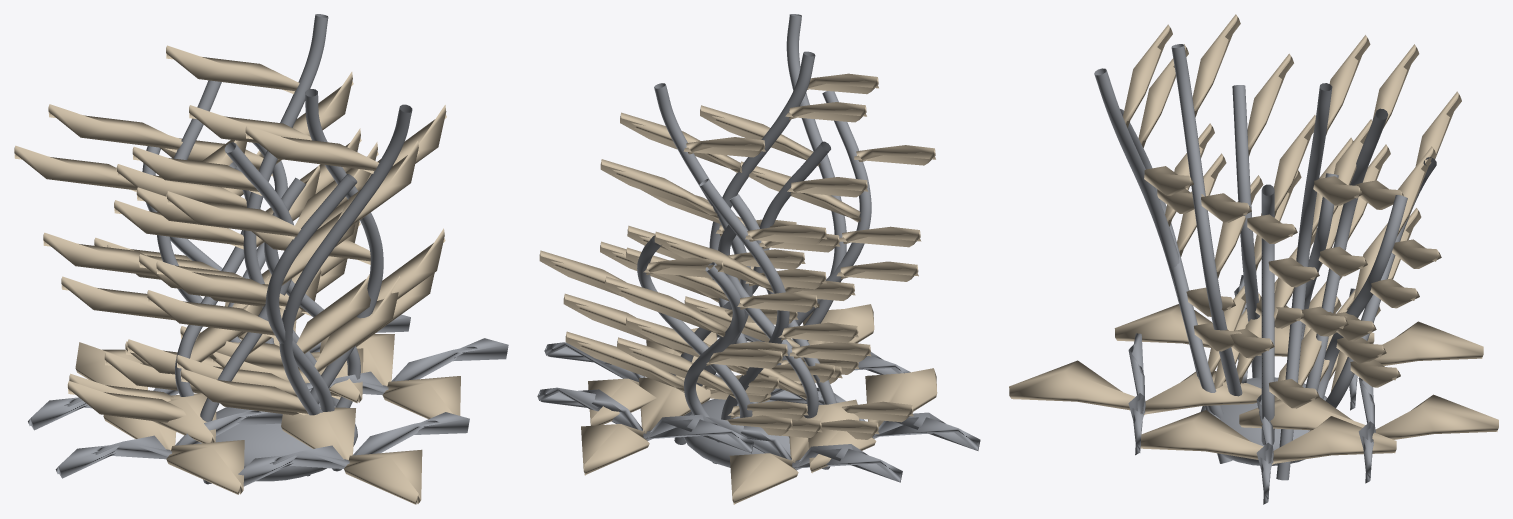
Rendered from bio_aquatic_frond_20_near.glb.
The picture shows the model from 3 angles, left to right: view 1: azimuth 30°, elevation 25°; view 2: azimuth 150°, elevation 25°; view 3: azimuth 270°, elevation 25°; orthographic projection. The views are drawn at different scales.
Visible parts, largest first — view 1: Ruffled aquatic blade.010, Ruffled aquatic blade.035, Ruffled aquatic blade.040, Ruffled aquatic blade.020, Ruffled aquatic blade.025, Ruffled aquatic blade.045, Ruffled aquatic blade.005, Low buttress leaf.009, Flexible stipe.002, Low buttress leaf.017, Low buttress leaf.001, Low buttress leaf.008 (+18 smaller); view 2: Ruffled aquatic blade.030, Ruffled aquatic blade.005, Ruffled aquatic blade.015, Ruffled aquatic blade.040, Ruffled aquatic blade.020, Ruffled aquatic blade.045, Ruffled aquatic blade.010, Ruffled aquatic blade.025, Low buttress leaf.013, Ruffled aquatic blade.035, Low buttress leaf.012, Low buttress leaf.005 (+19 smaller); view 3: Low buttress leaf.001, Low buttress leaf.009, Low buttress leaf.013, Ruffled aquatic blade.025, Ruffled aquatic blade.010, Flexible stipe.005, Ruffled aquatic blade.040, Ruffled aquatic blade.035, Ruffled aquatic blade, Flexible stipe.008, Ruffled aquatic blade.005, Ruffled aquatic blade.030 (+17 smaller).
Part boxes in pixels (left/top/right/bottom): Ruffled aquatic blade.010: left=156, top=125, right=419, bottom=415; Ruffled aquatic blade.035: left=147, top=191, right=400, bottom=415; Ruffled aquatic blade.040: left=114, top=45, right=360, bottom=368; Ruffled aquatic blade.020: left=67, top=142, right=378, bottom=422; Ruffled aquatic blade.025: left=176, top=105, right=446, bottom=396; Ruffled aquatic blade.045: left=61, top=164, right=320, bottom=401; Ruffled aquatic blade.005: left=43, top=104, right=271, bottom=374; Low buttress leaf.009: left=281, top=407, right=422, bottom=504; Flexible stipe.002: left=279, top=104, right=412, bottom=471; Low buttress leaf.017: left=103, top=415, right=244, bottom=494; Low buttress leaf.001: left=320, top=334, right=460, bottom=419; Low buttress leaf.008: left=238, top=412, right=469, bottom=486; Ruffled aquatic blade.030: left=565, top=276, right=817, bottom=435; Ruffled aquatic blade.005: left=626, top=224, right=858, bottom=420; Ruffled aquatic blade.015: left=539, top=250, right=822, bottom=437; Ruffled aquatic blade.040: left=600, top=137, right=826, bottom=394; Ruffled aquatic blade.020: left=641, top=177, right=913, bottom=422; Ruffled aquatic blade.045: left=626, top=247, right=879, bottom=439; Ruffled aquatic blade.010: left=700, top=73, right=921, bottom=374; Ruffled aquatic blade.025: left=600, top=102, right=866, bottom=382; Low buttress leaf.013: left=581, top=375, right=710, bottom=475; Ruffled aquatic blade.035: left=711, top=145, right=935, bottom=383; Low buttress leaf.012: left=537, top=387, right=753, bottom=453; Low buttress leaf.005: left=729, top=399, right=859, bottom=504; Low buttress leaf.001: left=1140, top=410, right=1396, bottom=464; Low buttress leaf.009: left=1009, top=360, right=1261, bottom=415; Low buttress leaf.013: left=1239, top=394, right=1498, bottom=439; Ruffled aquatic blade.025: left=1192, top=14, right=1275, bottom=384; Ruffled aquatic blade.010: left=1123, top=24, right=1246, bottom=376; Flexible stipe.005: left=1171, top=44, right=1242, bottom=396; Ruffled aquatic blade.040: left=1298, top=35, right=1370, bottom=385; Ruffled aquatic blade.035: left=1138, top=44, right=1261, bottom=388; Ruffled aquatic blade: left=1268, top=115, right=1319, bottom=429; Flexible stipe.008: left=1276, top=83, right=1332, bottom=480; Ruffled aquatic blade.005: left=1319, top=44, right=1419, bottom=383; Ruffled aquatic blade.030: left=1330, top=91, right=1461, bottom=392.
Size of the model in its own units: 2.22 by 1.89 by 2.09.
